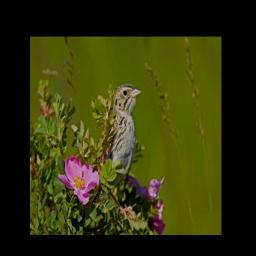Sparrow: (100, 79, 144, 193)
